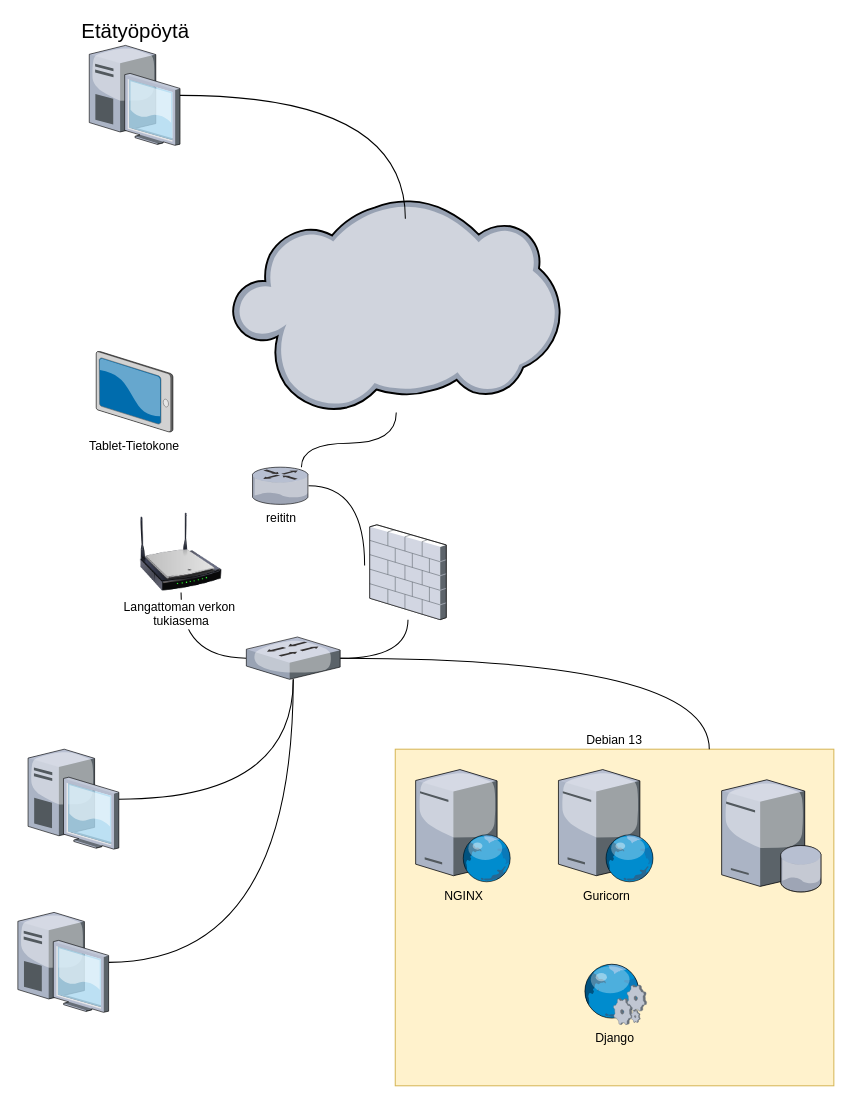
This 852x1104 diagram has some shape labels left out. The shapes that lost their labels are listed below. From the top down, each one's box as (x1, y1, x2, y2) in pixels, then its label:
(232, 198, 560, 412): Internet
(369, 524, 446, 619): Palomuuri
(246, 636, 340, 679): Lähiverkko 192.168.196.0/24
(721, 779, 821, 891): PostgreSQL 13
